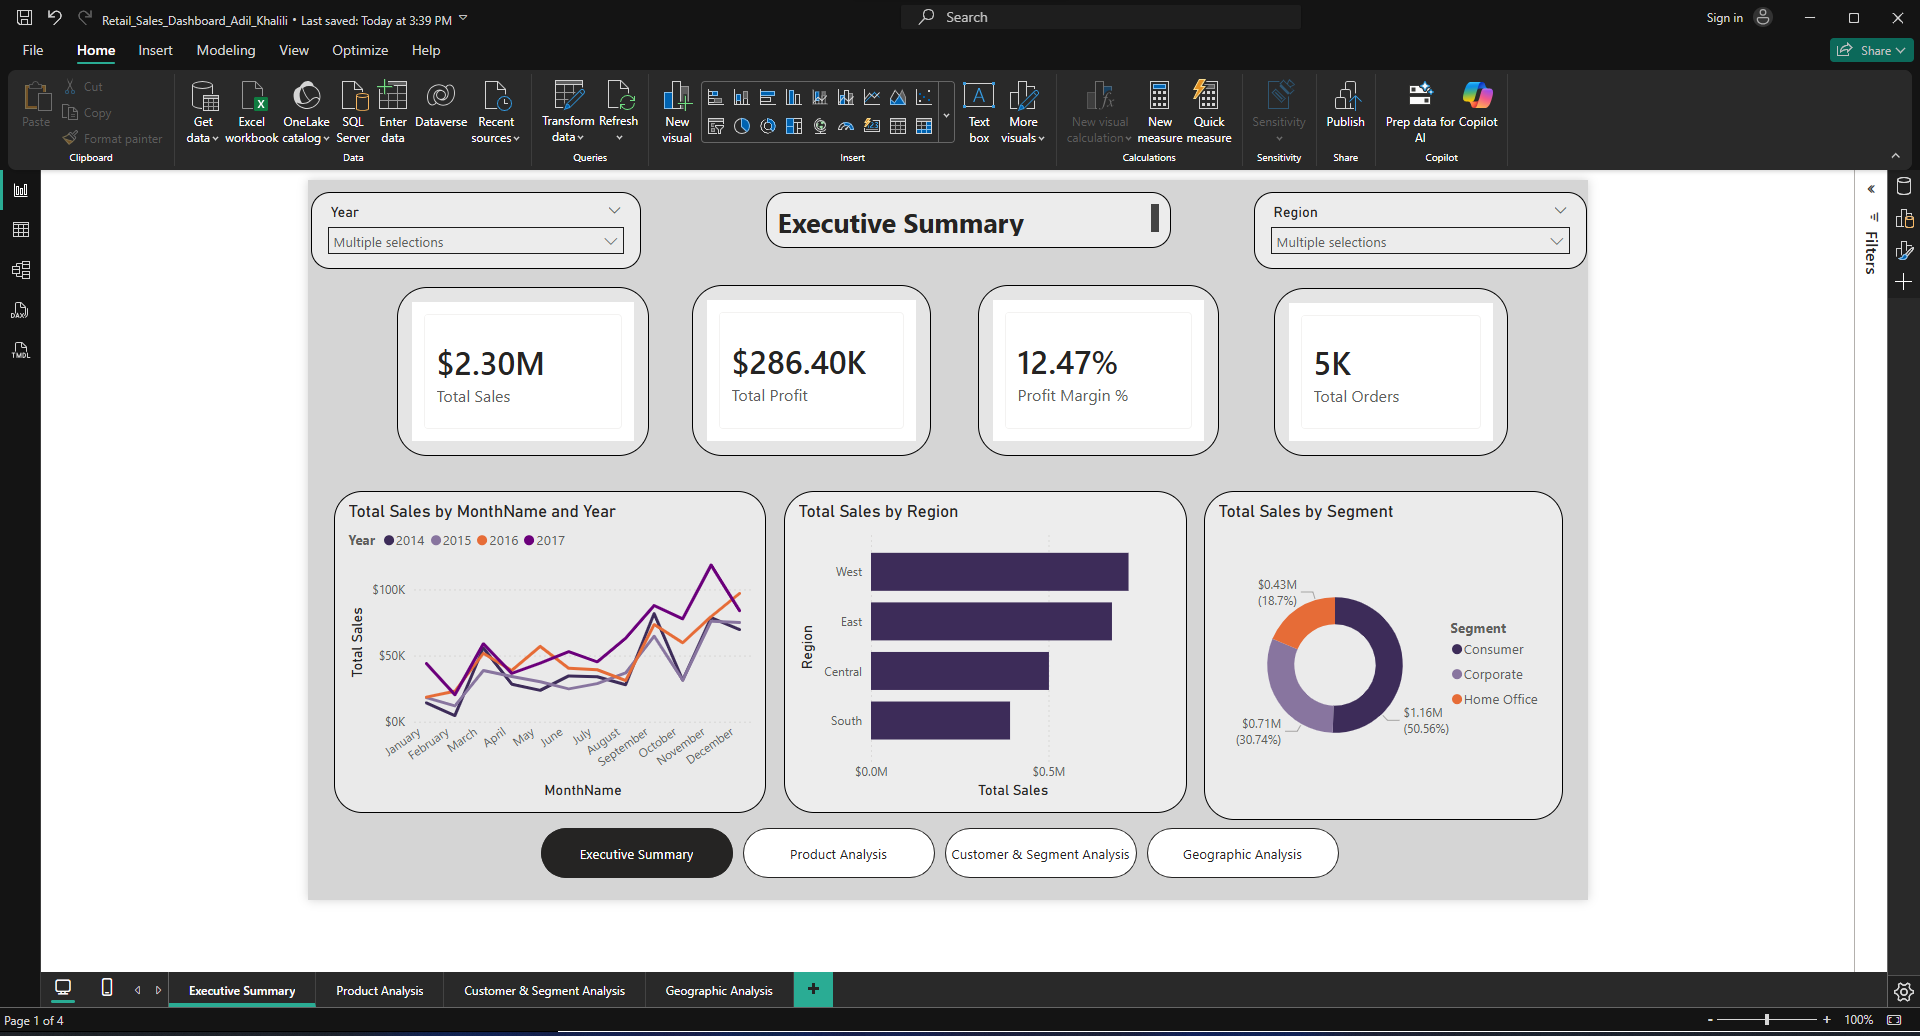

Layout of this report page (visuals, bound fields, positions):
{"tool":"powerbi","page":{"name":"Executive Summary","canvas":[1280,720],"ordinal":0},"visuals":[{"type":"cardVisual","fields":{"Data":["_Measures.Total Profit"]},"box":[384,105,239,171],"z":0},{"type":"lineChart","fields":{"Category":["Dim_Date.MonthName"],"Series":["Dim_Date.Year"],"Y":["_Measures.Total Sales"]},"box":[26,311,432,322],"z":1000},{"type":"barChart","fields":{"Category":["Dim_Location.Region"],"Y":["_Measures.Total Sales"]},"box":[476,311,403,322],"z":2000},{"type":"donutChart","fields":{"Category":["Dim_Customer.Segment"],"Y":["_Measures.Total Sales"]},"box":[896,311,359,329],"z":3000},{"type":"slicer","fields":{"Values":["Dim_Date.Year"]},"box":[3,12.1,329.6,76.6],"z":4000},{"type":"slicer","fields":{"Values":["Dim_Location.Region"]},"box":[946.4,12.1,332.6,76.6],"z":5000},{"type":"textbox","box":[457.6,12.1,405.2,55.4],"z":6000},{"type":"cardVisual","fields":{"Data":["_Measures.Total Sales"]},"box":[89,107,252,169],"z":7000},{"type":"cardVisual","fields":{"Data":["_Measures.Profit Margin %"]},"box":[670,105,241,171],"z":8000},{"type":"cardVisual","fields":{"Data":["_Measures.Total Orders"]},"box":[966,108,234,168],"z":9000},{"type":"pageNavigator","box":[233.3,648.1,800,50],"z":9002}]}

Visuals, with their boxes on the page's 1280x720 design canvas (x1, y1, x2, y2). These are canvas units, not pixel positions in the 1920x1036 screenshot, which may show the page scaled, cropped or inside an application window:
cardVisual - _Measures.Total Profit: 384,105,623,276
lineChart - Dim_Date.MonthName x Dim_Date.Year: 26,311,458,633
barChart - Dim_Location.Region x _Measures.Total Sales: 476,311,879,633
donutChart - Dim_Customer.Segment x _Measures.Total Sales: 896,311,1255,640
slicer - Dim_Date.Year: 3,12,333,89
slicer - Dim_Location.Region: 946,12,1279,89
textbox: 458,12,863,68
cardVisual - _Measures.Total Sales: 89,107,341,276
cardVisual - _Measures.Profit Margin %: 670,105,911,276
cardVisual - _Measures.Total Orders: 966,108,1200,276
pageNavigator: 233,648,1033,698
